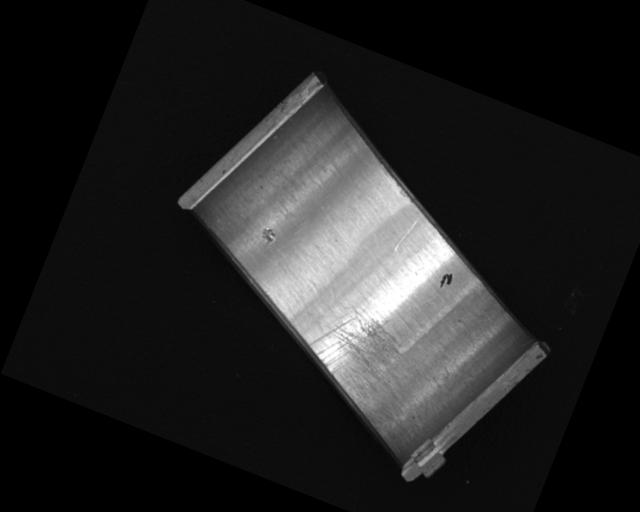blot: (438, 269, 455, 291)
bruise: (257, 225, 279, 248)
nick: (393, 211, 421, 256)
scratch: (289, 294, 424, 435)
